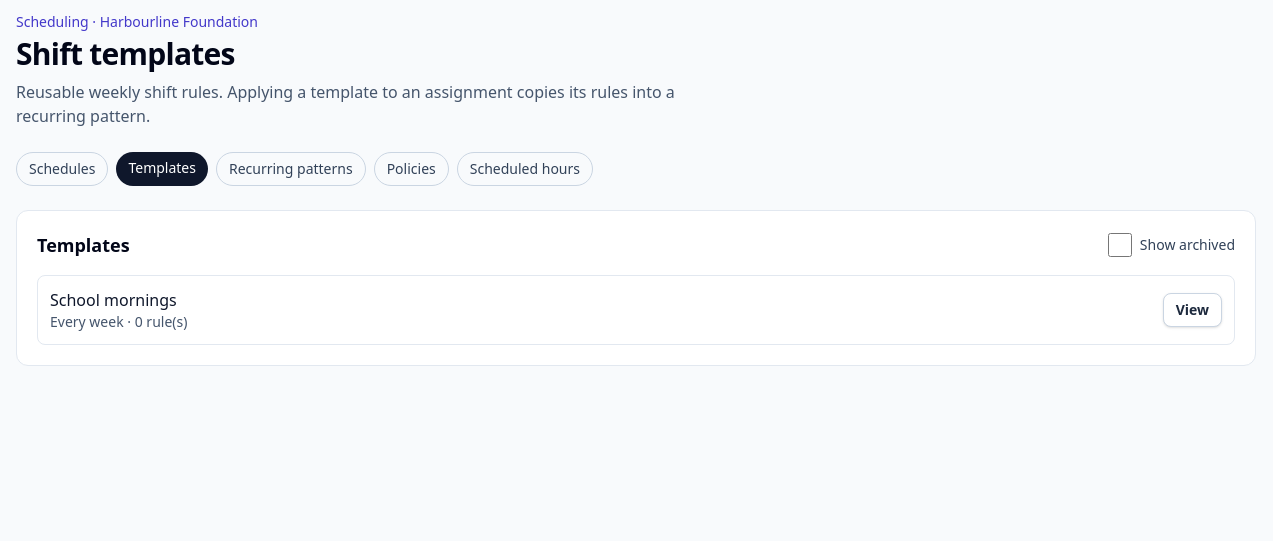
Test case: ScheduleTemplatesPage › is read-only without template management
Click the button named "View School mornings": (1192, 310) [1163,293,1222,327]
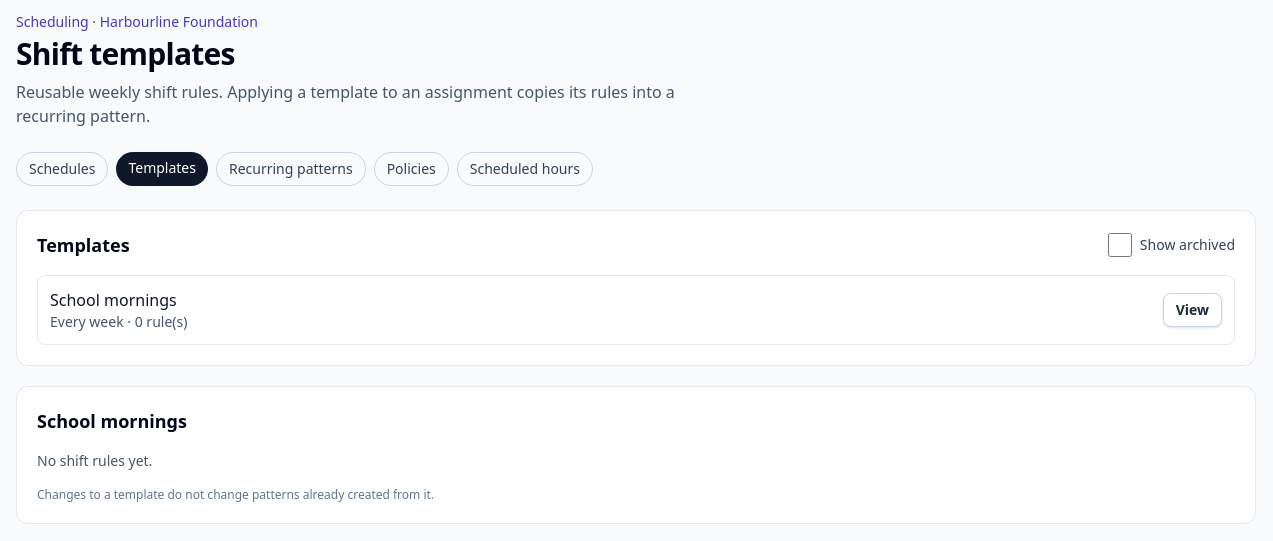
Now the element "School mornings" is shown, box [16,386,1256,524]
